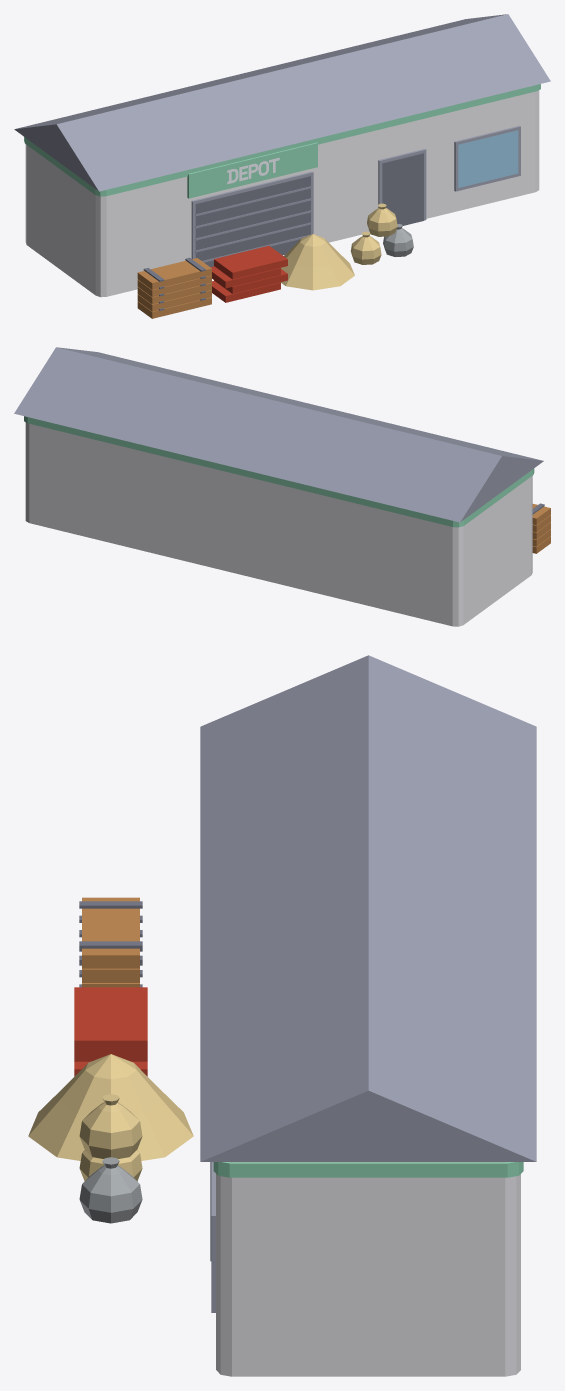
File: depot-2x1-t4-tone-a.glb
3 renders of one model, top to bottom at view 1: azimuth 30°, elevation 25°; view 2: azimuth 150°, elevation 25°; view 3: azimuth 270°, elevation 25°, orthographic. The views are drawn at different scales.
Parts seen in each view (by area): view 1: depot-2x1-t4-tone-a; view 2: depot-2x1-t4-tone-a; view 3: depot-2x1-t4-tone-a.
Part boxes in pixels (x1,y1,x2,y2): depot-2x1-t4-tone-a: (14, 14, 550, 318); depot-2x1-t4-tone-a: (14, 347, 550, 626); depot-2x1-t4-tone-a: (28, 655, 536, 1376).
Size of the model in its own units: 1.96 by 0.61 by 0.9676.
1 material, 1 textured.
